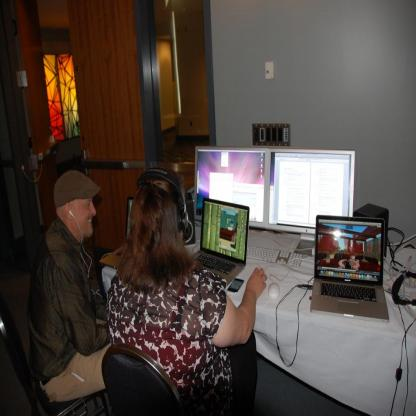board: (321, 210, 387, 314), (188, 198, 249, 290), (118, 197, 132, 254)
